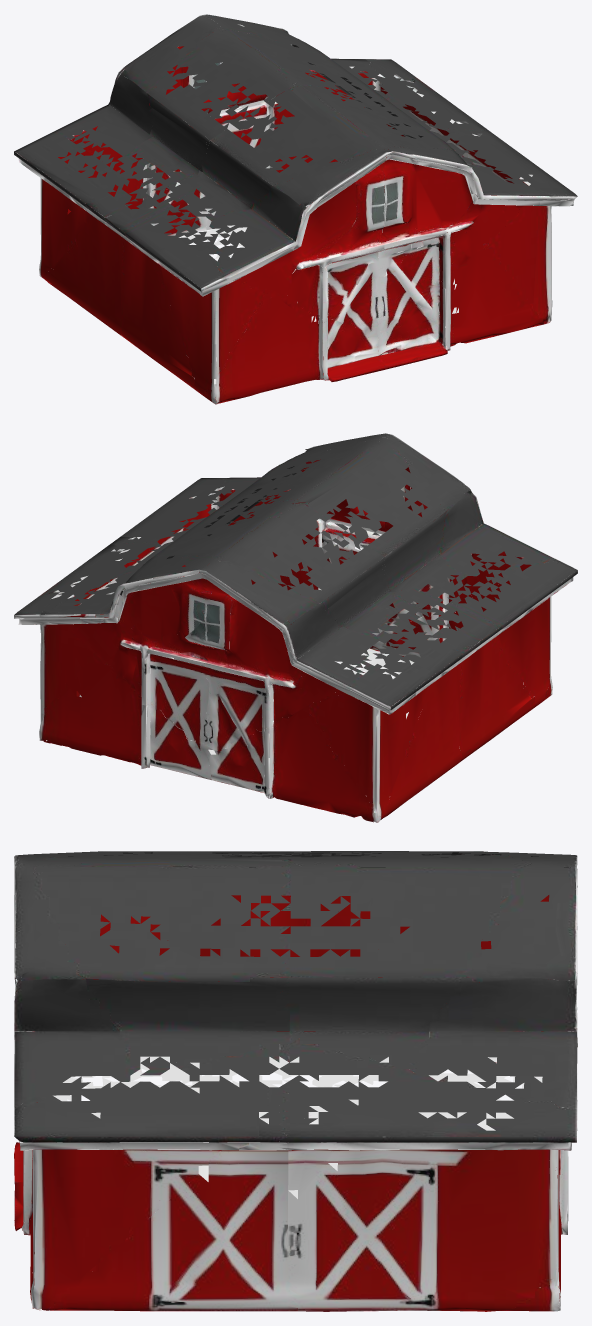
Rendered from barn.0150236411e8.glb.
3 views of the same model, one above another, from view 1: azimuth 30°, elevation 25°; view 2: azimuth 150°, elevation 25°; view 3: azimuth 270°, elevation 25° (orthographic). The views are drawn at different scales.
Visible parts, largest first — view 1: Mesh_0.001; view 2: Mesh_0.001; view 3: Mesh_0.001.
Boxes of the visible parts, left/top/right/bottom form: Mesh_0.001: left=14, top=14, right=577, bottom=404; Mesh_0.001: left=14, top=433, right=577, bottom=822; Mesh_0.001: left=14, top=851, right=577, bottom=1311.
Bounding box in the file's own units: 12.74 × 7 × 10.97.
Materials: 1 (1 with a texture image).
